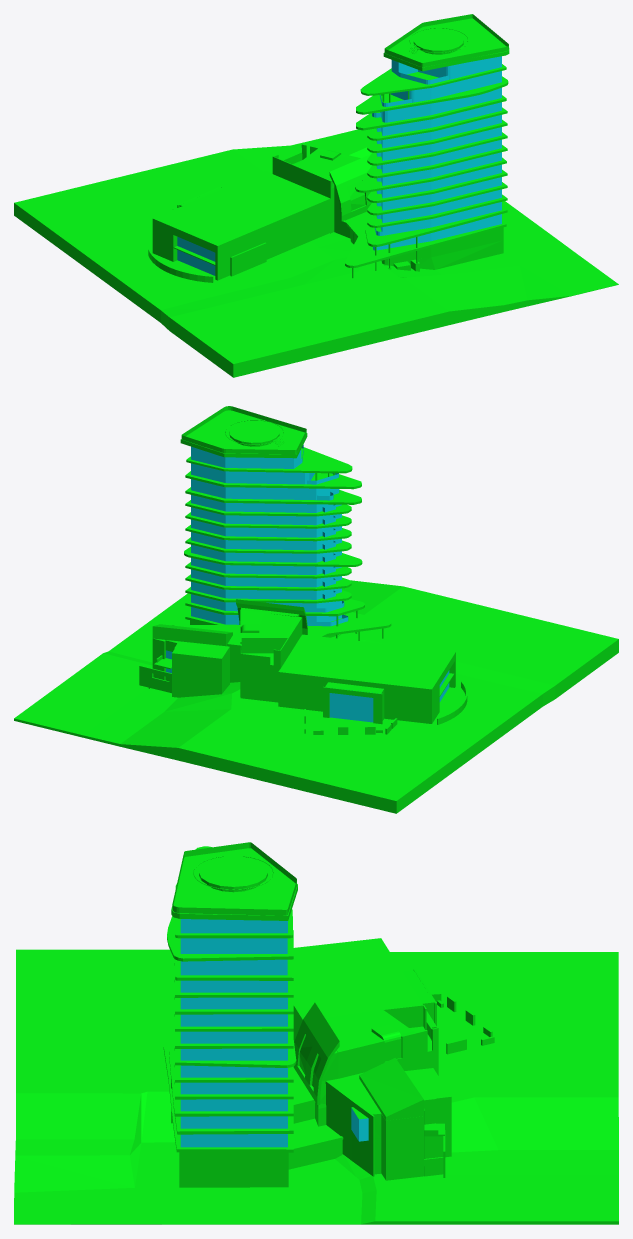
3 renders of one model, top to bottom at view 1: azimuth 30°, elevation 25°; view 2: azimuth 150°, elevation 25°; view 3: azimuth 270°, elevation 25°, orthographic. The views are drawn at different scales.
Parts seen in each view (by area): view 1: Plane044; view 2: Plane044; view 3: Plane044.
Part boxes in pixels (box(x1,y1,x2,y2)): Plane044: box(14, 14, 618, 377); Plane044: box(14, 406, 618, 813); Plane044: box(14, 842, 618, 1224).
Size of the model in its own units: 26.79 by 13.96 by 26.76.
